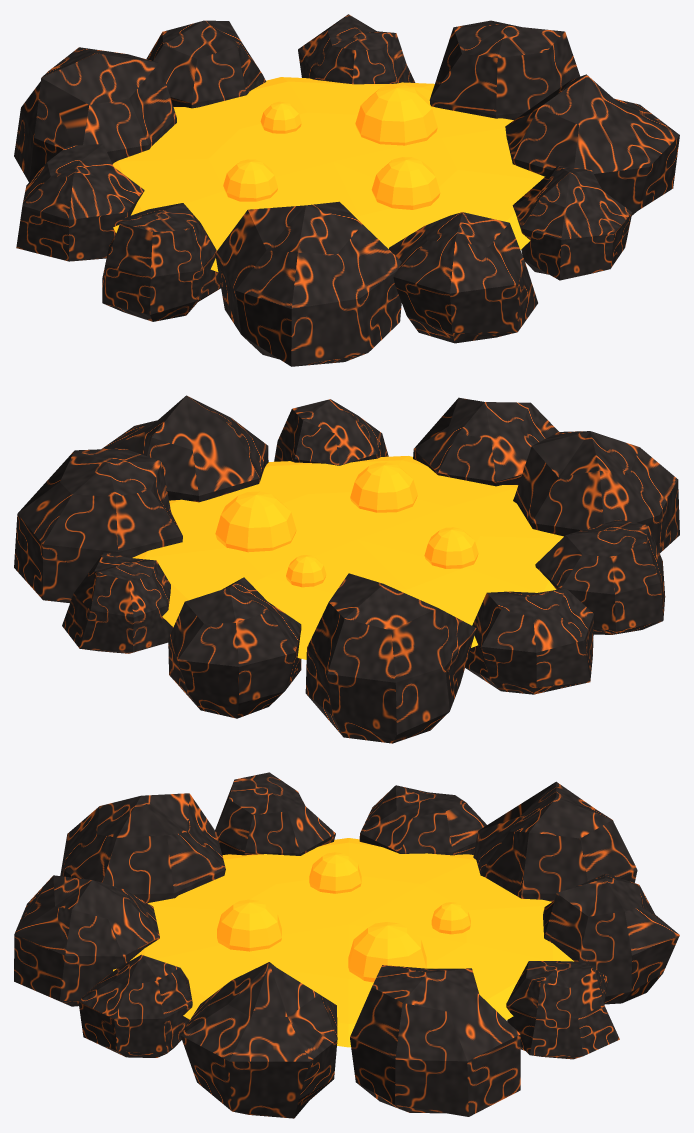
File: MagmaPool.glb
3 views of the same model, one above another, from view 1: azimuth 30°, elevation 25°; view 2: azimuth 150°, elevation 25°; view 3: azimuth 270°, elevation 25° (orthographic).
Visible parts, largest first — view 1: MagmaPool, MagmaPool_Glow; view 2: MagmaPool, MagmaPool_Glow; view 3: MagmaPool, MagmaPool_Glow.
Part boxes in pixels (x1,y1,x2,y2): MagmaPool: (14,14,679,366); MagmaPool_Glow: (112,77,544,271); MagmaPool: (14,395,679,743); MagmaPool_Glow: (132,456,563,659); MagmaPool: (14,772,679,1118); MagmaPool_Glow: (113,838,573,1047).
Size of the model in its own units: 3.77 by 0.8871 by 3.9.
2 materials, 1 textured.
